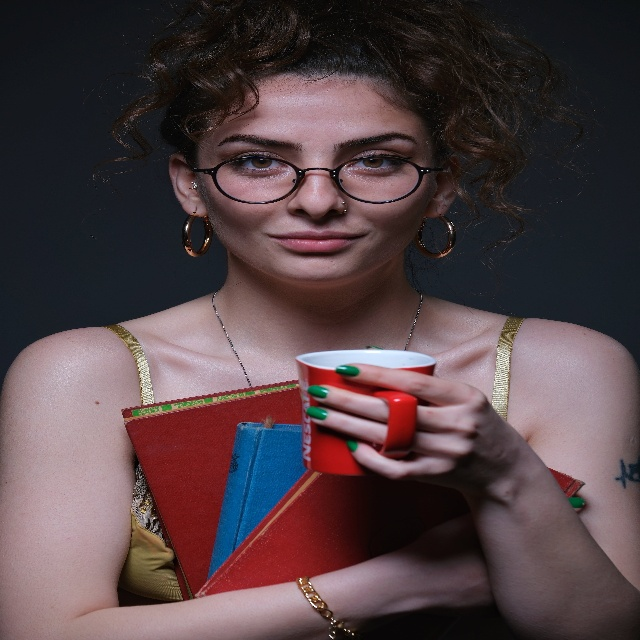Gafas: (190, 147, 455, 207)
Sin_guantes: (305, 346, 511, 497)
